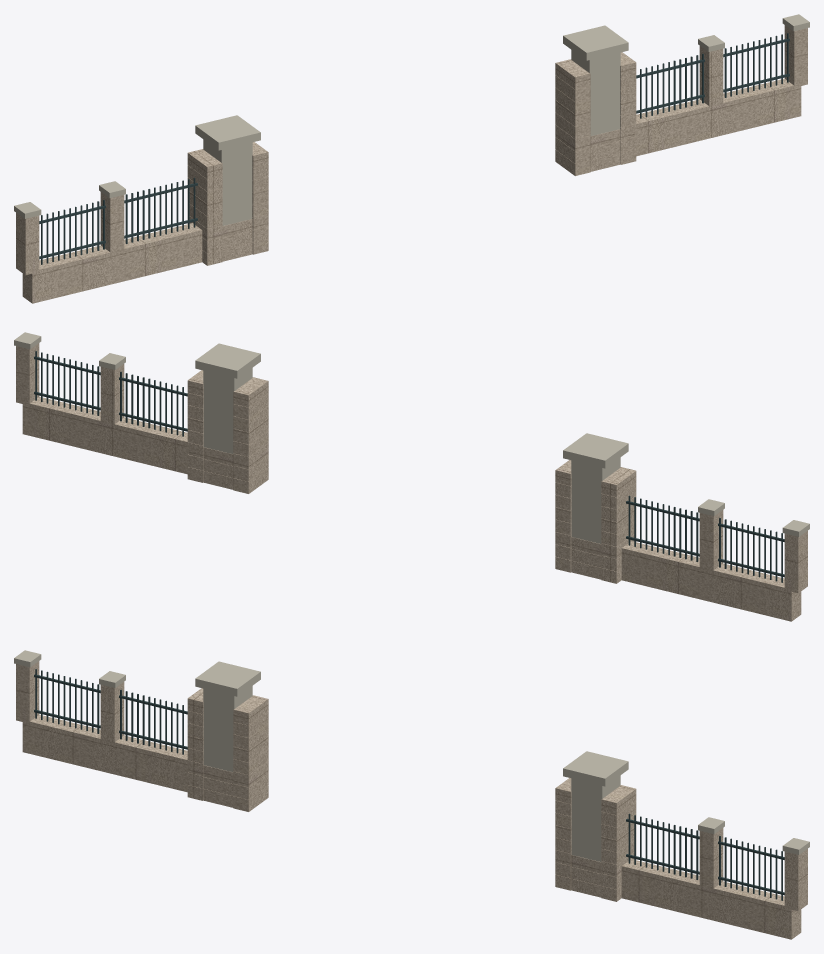
File: north-public-gate.glb
3 renders of one model, top to bottom at view 1: azimuth 30°, elevation 25°; view 2: azimuth 150°, elevation 25°; view 3: azimuth 330°, elevation 25°, orthographic.
Parts seen in each view (by area): view 1: landmark-north-public-gate; view 2: landmark-north-public-gate; view 3: landmark-north-public-gate.
Part boxes in pixels (x1=…): landmark-north-public-gate: x1=14, y1=14, x2=809, y2=303; landmark-north-public-gate: x1=14, y1=332, x2=809, y2=621; landmark-north-public-gate: x1=14, y1=650, x2=809, y2=939.
Size of the model in its own units: 24.97 by 3.72 by 1.3.
Materials: 3 (1 with a texture image).
